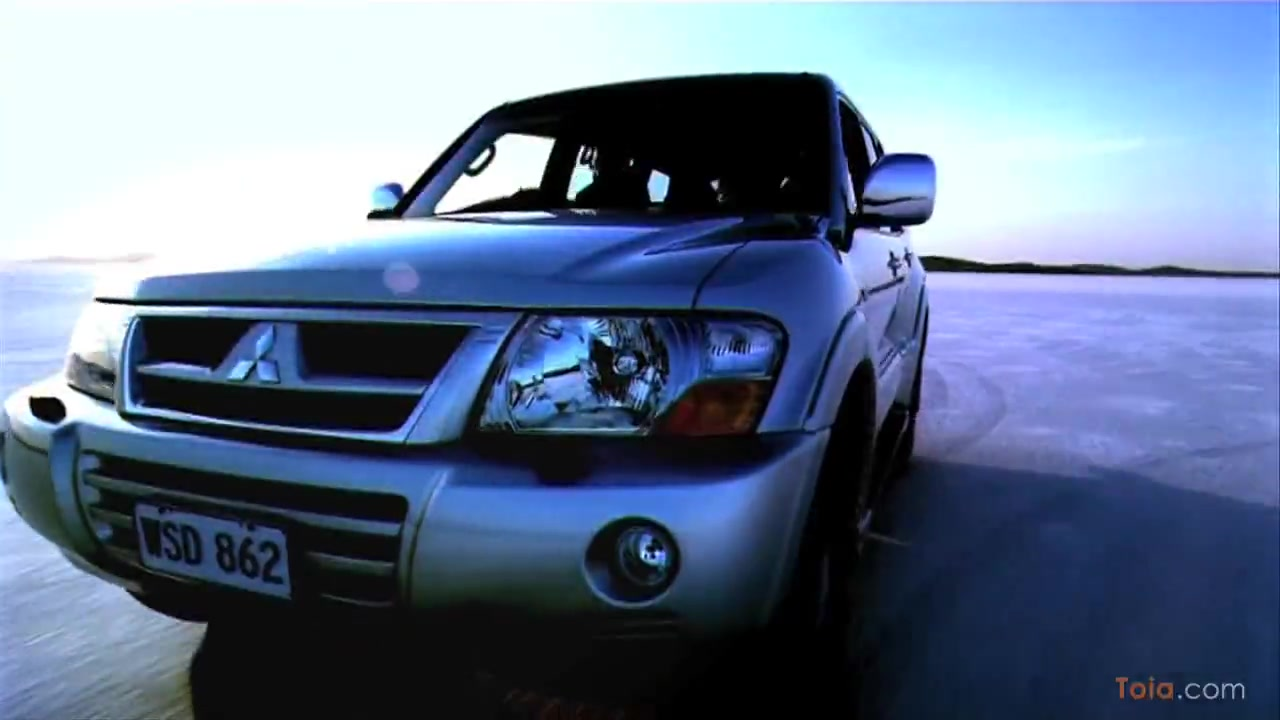car: (4, 71, 937, 680)
